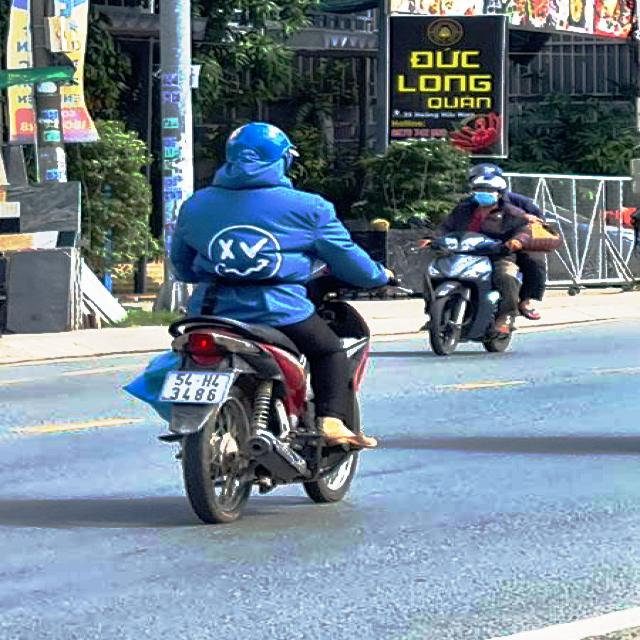license_plate: (160, 372, 234, 405)
